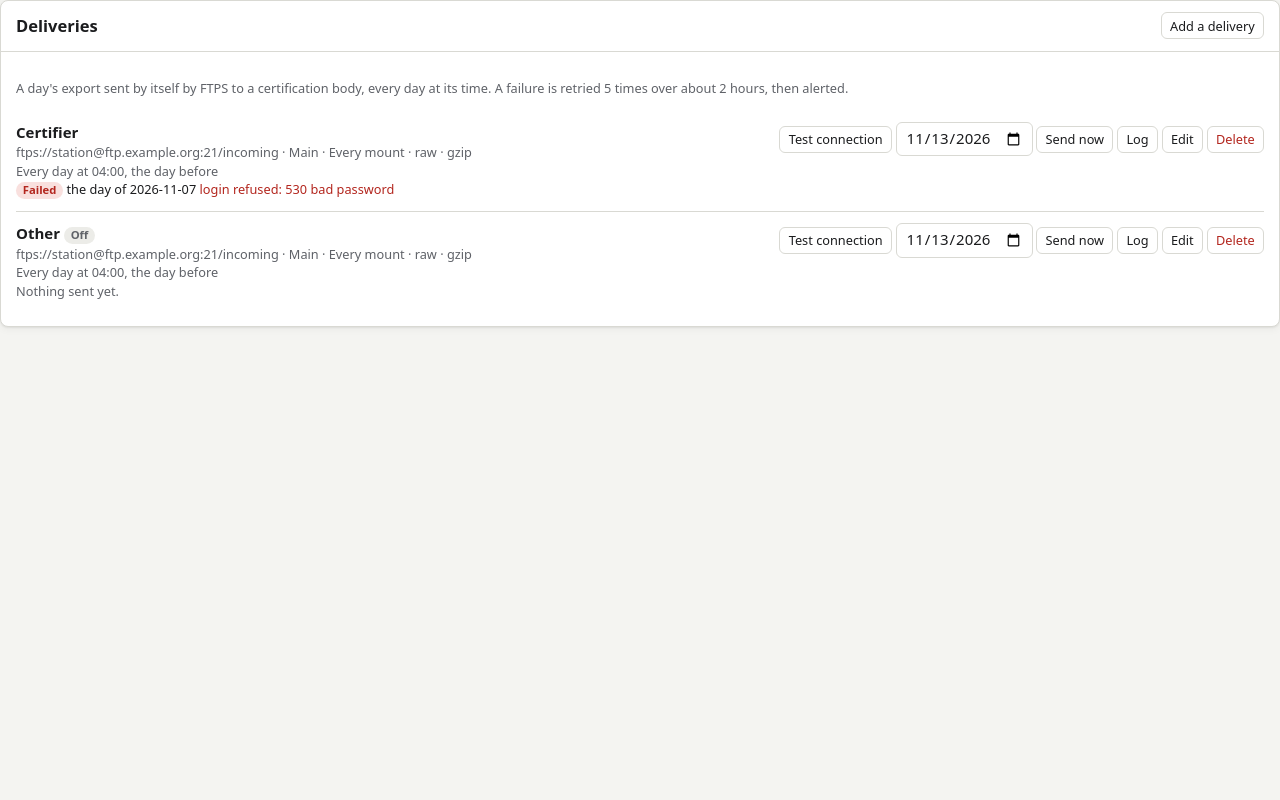
Test case: certification deliveries › deletes a delivery once asked
The width and height of the screenshot is (1280, 800).
Click the button "Delete" in the row of "Certifier" at (1235, 139), box [1207, 126, 1264, 153]
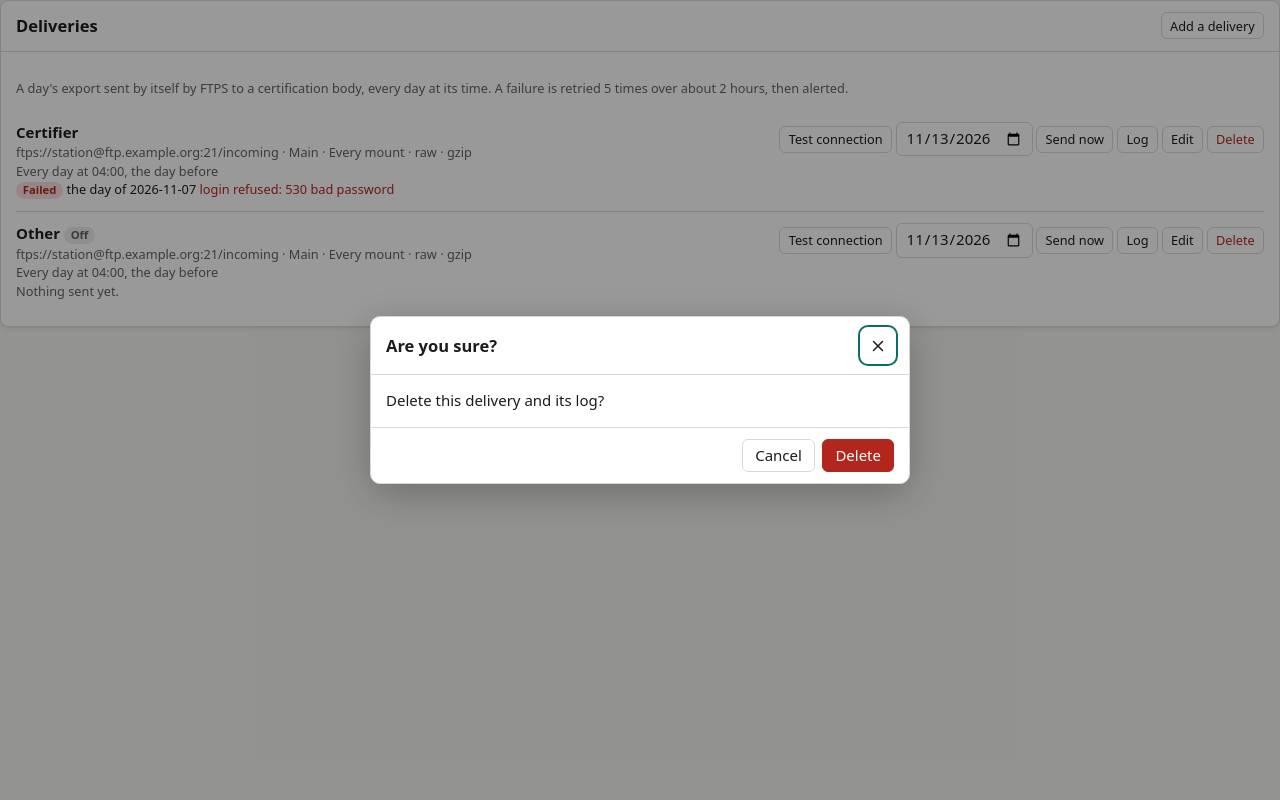
Click the button "Delete" below "Delete this delivery and its log?" at (858, 456), box [822, 439, 894, 472]
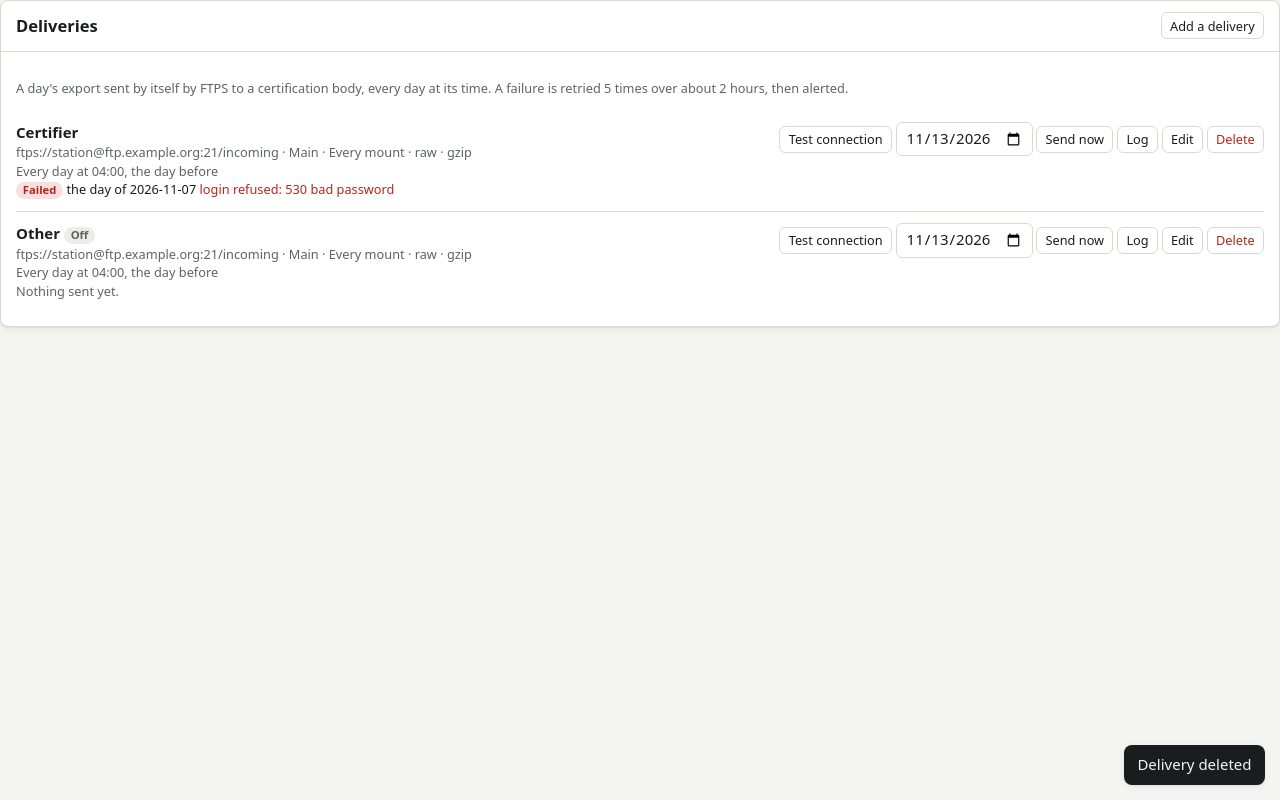
Now the text "Delivery deleted" is shown, box [1124, 745, 1265, 785]
